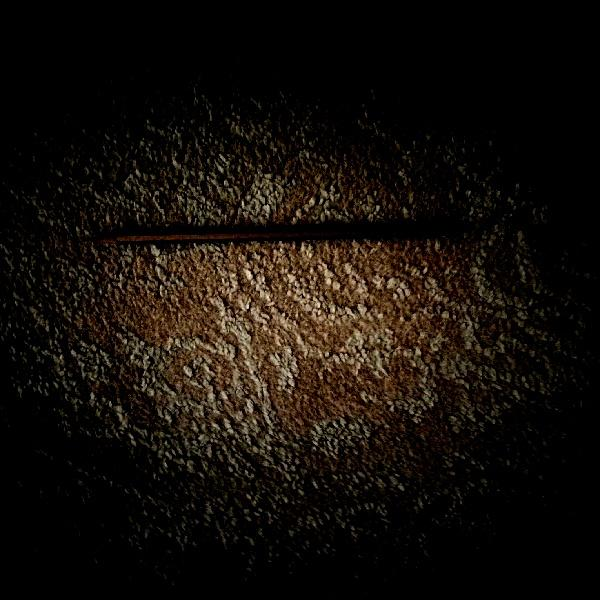pencil: (86, 218, 483, 246)
